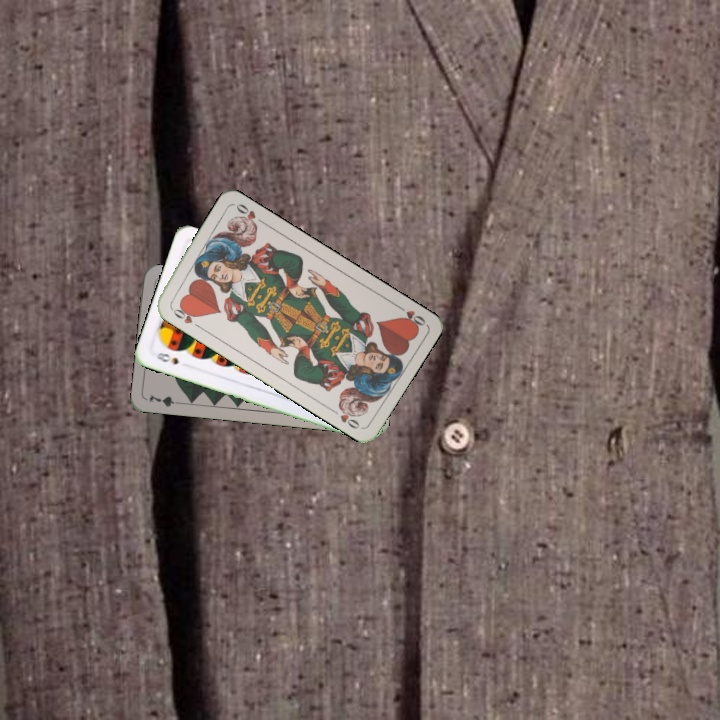G7: (145, 390, 185, 409)
HO: (392, 300, 428, 331), (167, 302, 203, 331)
S8: (152, 348, 181, 367)
